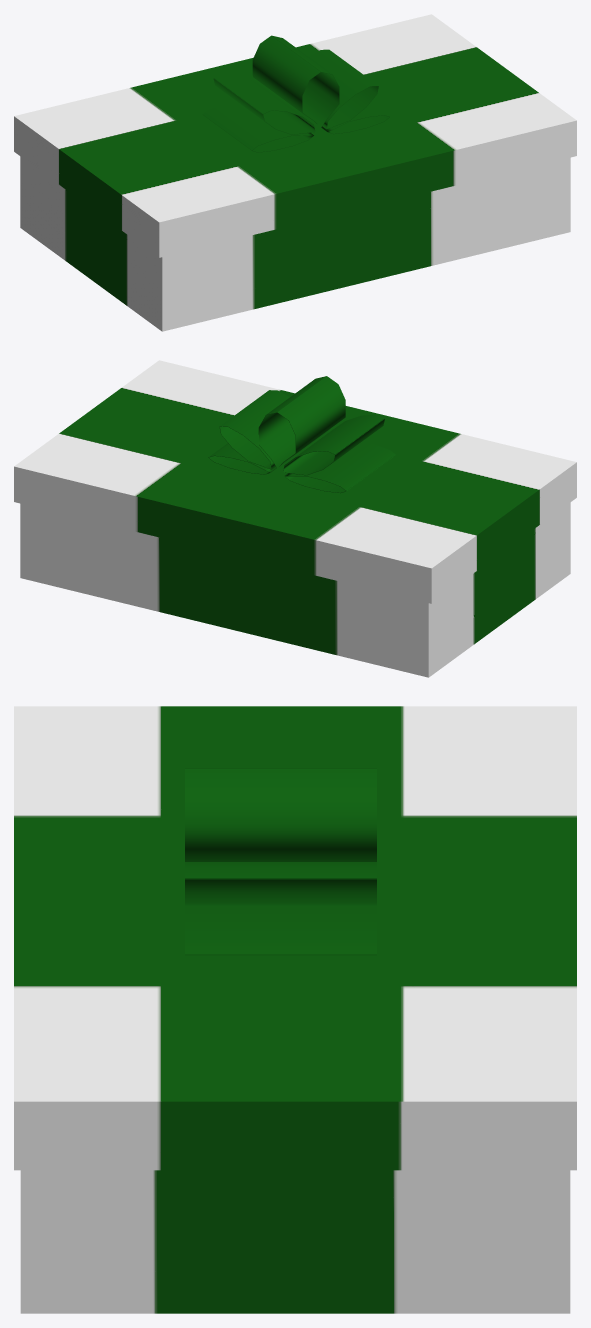
The model's file is present_striped_ver4.fbx.
3 renders of one model, top to bottom at view 1: azimuth 30°, elevation 25°; view 2: azimuth 150°, elevation 25°; view 3: azimuth 270°, elevation 25°, orthographic. The views are drawn at different scales.
Visible parts, largest first — view 1: Top, Box; view 2: Top, Box; view 3: Top, Box.
Boxes of the visible parts, box(x1,y1,x2,y2) form: Top: box(14, 14, 576, 257); Box: box(20, 156, 570, 331); Top: box(14, 360, 576, 603); Box: box(20, 502, 570, 677); Top: box(14, 706, 576, 1170); Box: box(20, 1170, 570, 1313).
Bounding box in the file's own units: 17.01 × 6.99 × 10.24.
